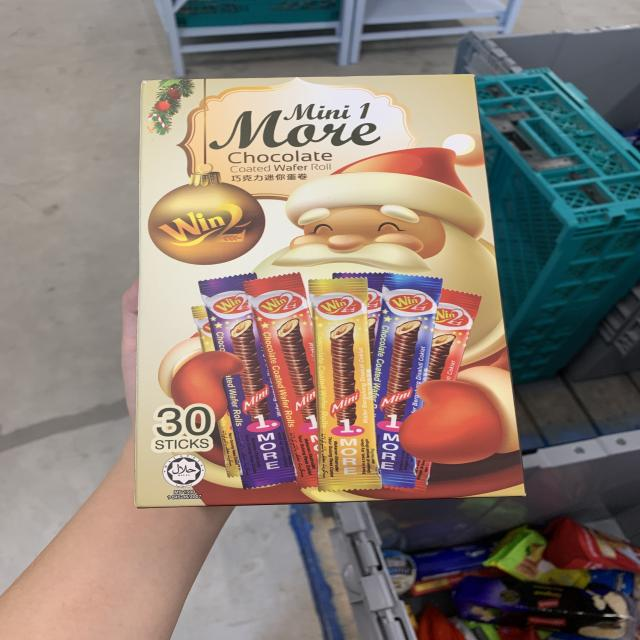object_name: (138, 83, 498, 497)
